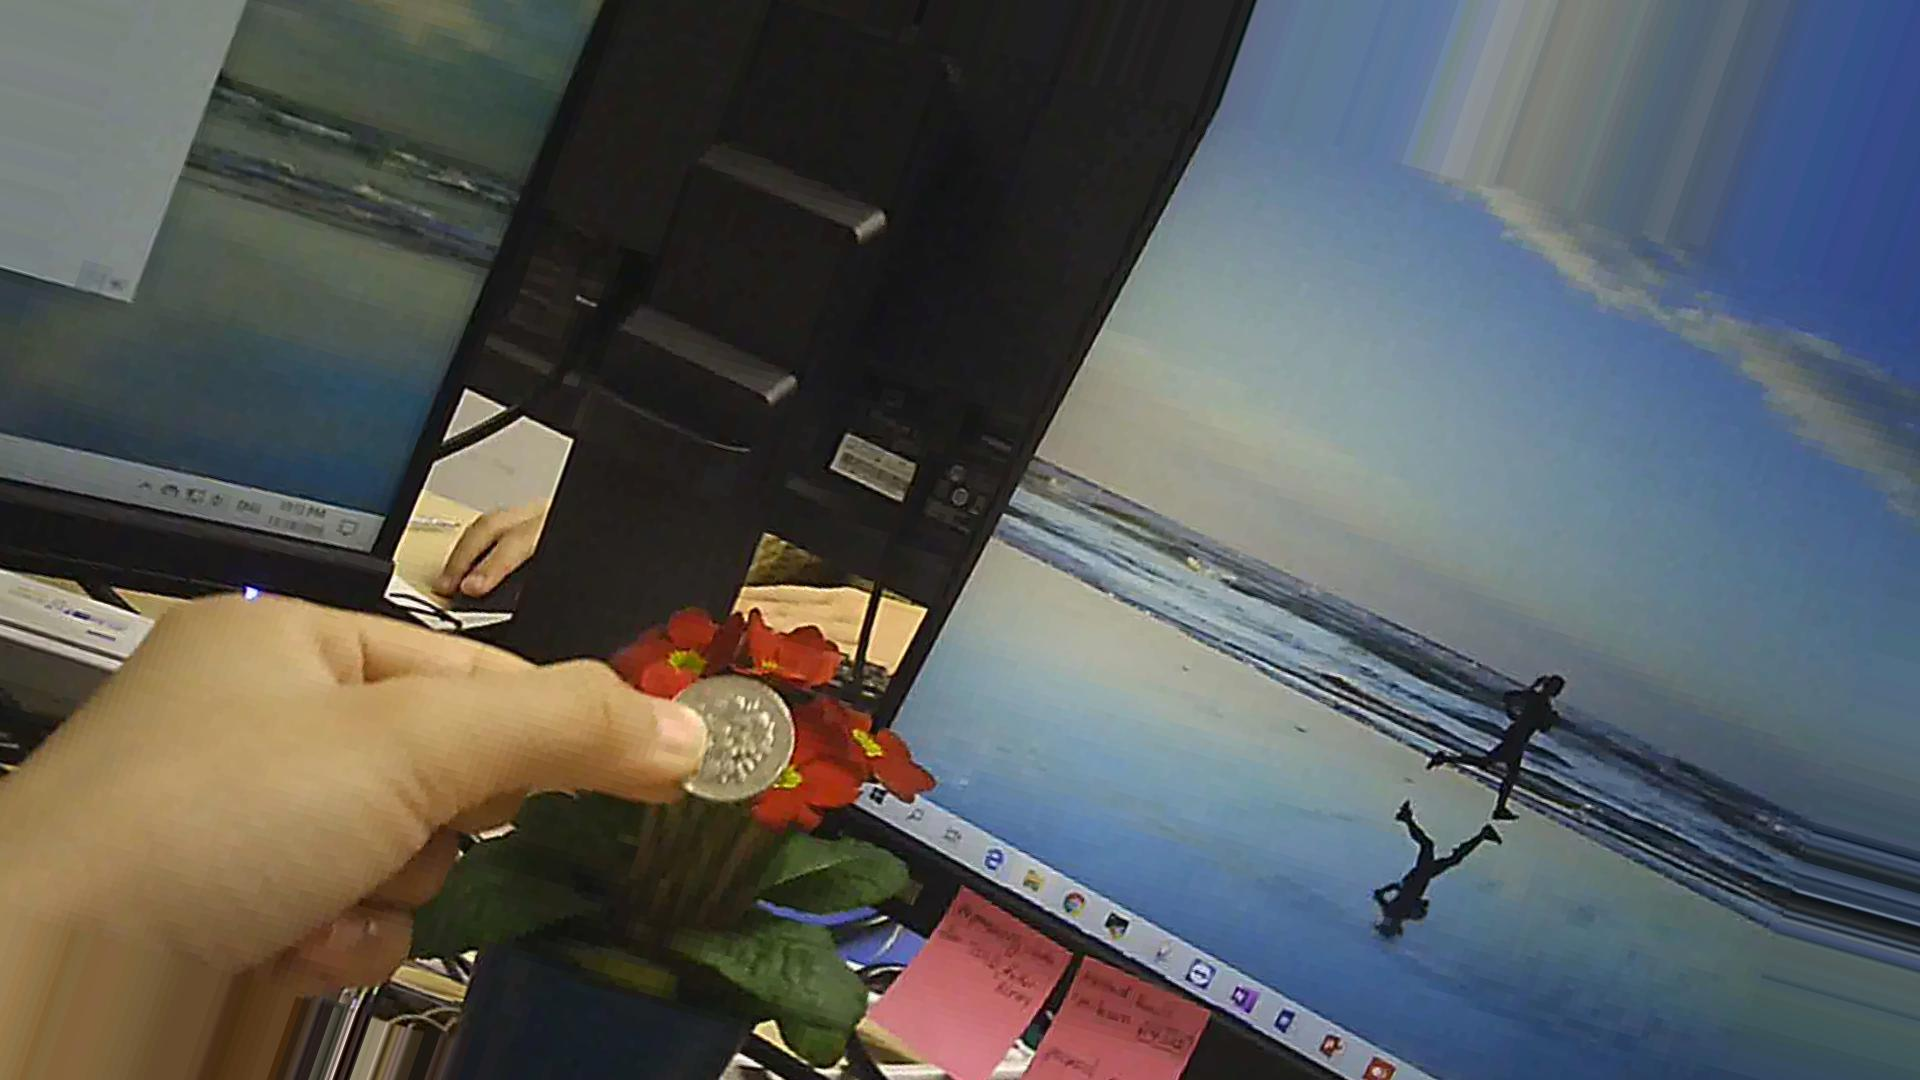100 Yen: (651, 666, 819, 828)
